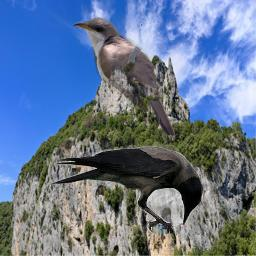Crow: (50, 145, 203, 234)
Cuckoo: (71, 15, 175, 139)
